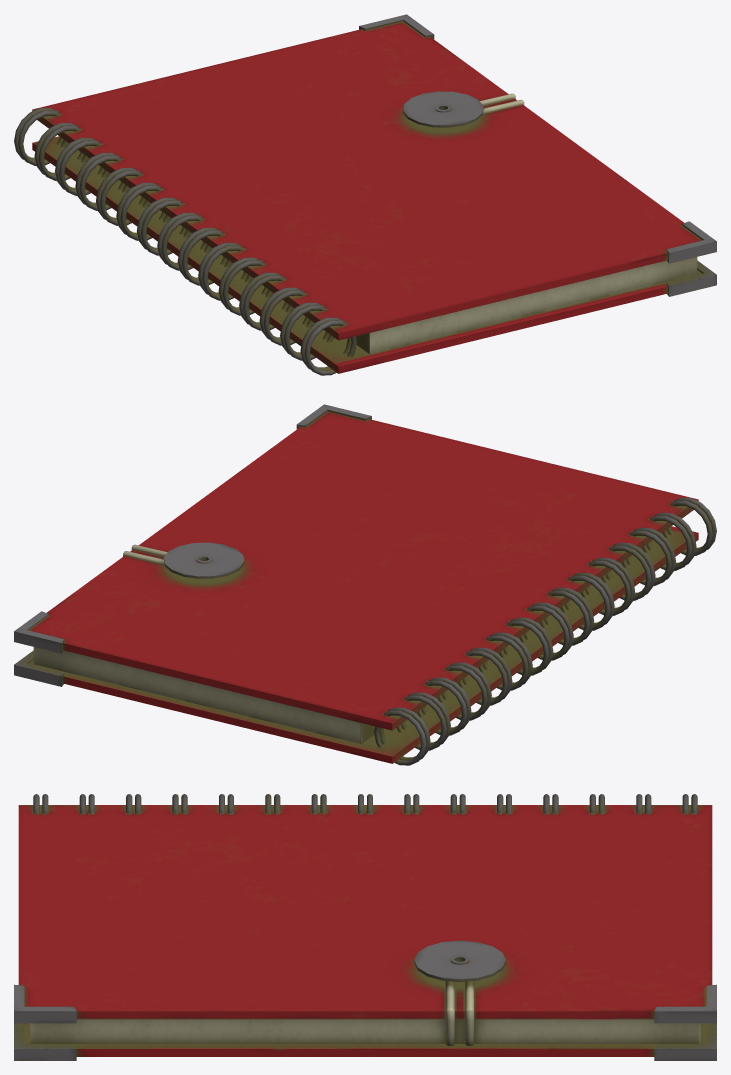
The model's file is Personal Notebook.fbx.
The picture shows the model from 3 angles, top to bottom: view 1: azimuth 30°, elevation 25°; view 2: azimuth 150°, elevation 25°; view 3: azimuth 270°, elevation 25°; orthographic projection. The views are drawn at different scales.
Parts seen in each view (by area): view 1: Personal Notebook; view 2: Personal Notebook; view 3: Personal Notebook.
Boxes of the visible parts, x1=… form: Personal Notebook: x1=14, y1=14, x2=716, y2=375; Personal Notebook: x1=14, y1=404, x2=716, y2=765; Personal Notebook: x1=14, y1=794, x2=716, y2=1060.
Size of the model in its own units: 18.9 by 2.57 by 25.24.
